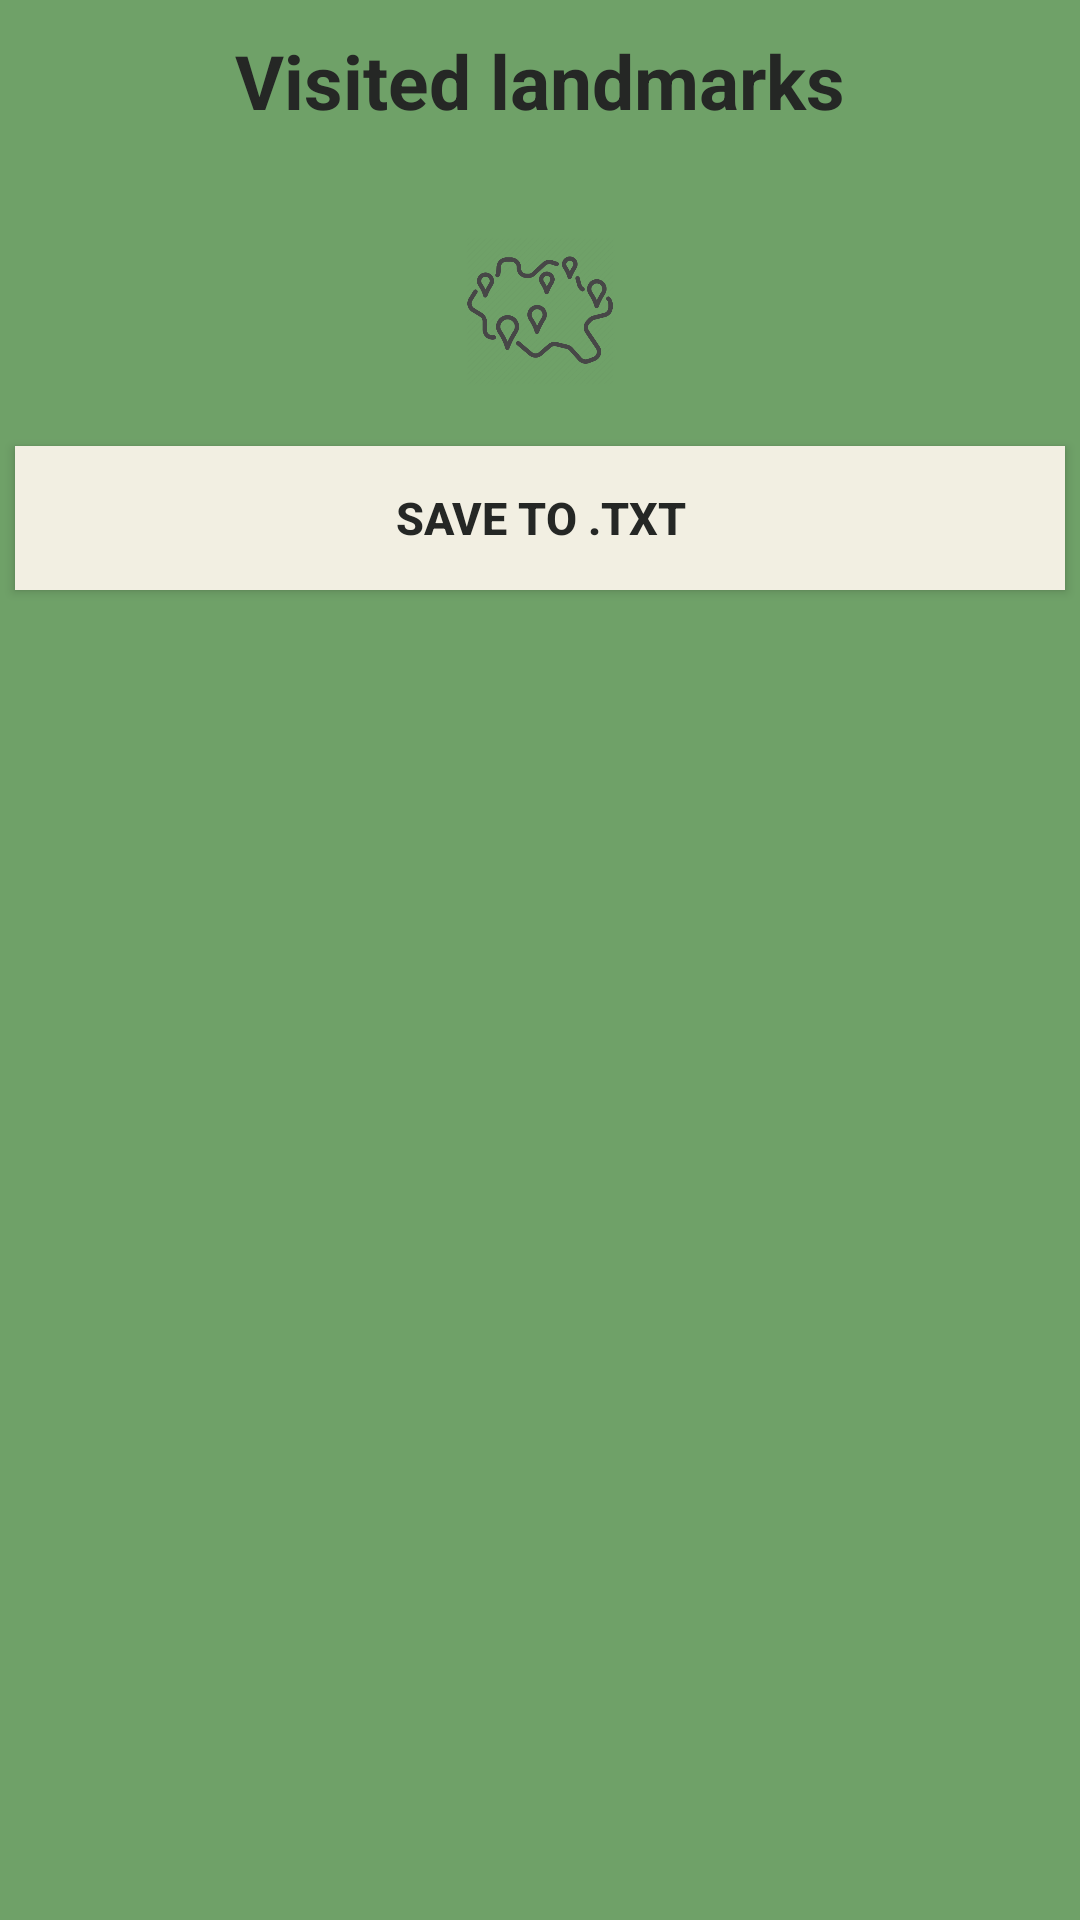

Locate icon controls on the screen. Image size 1080*1920, boxes as (x1, y1, x2, y2).
travel: (467, 256, 613, 364)
